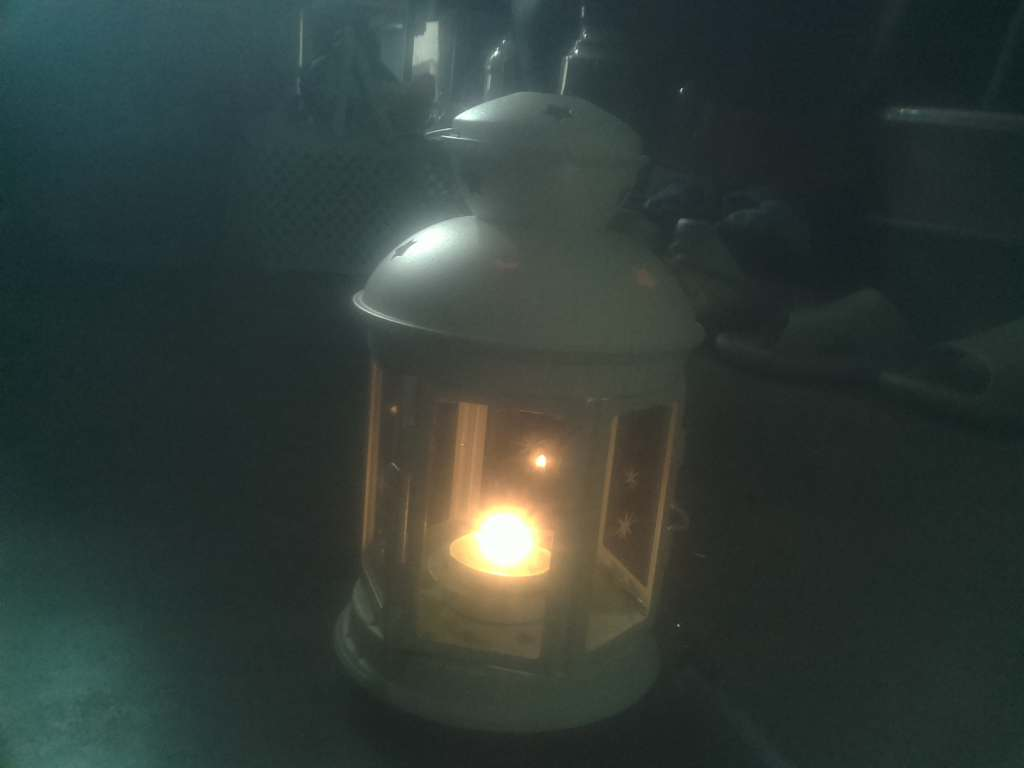fire: (436, 474, 560, 596)
